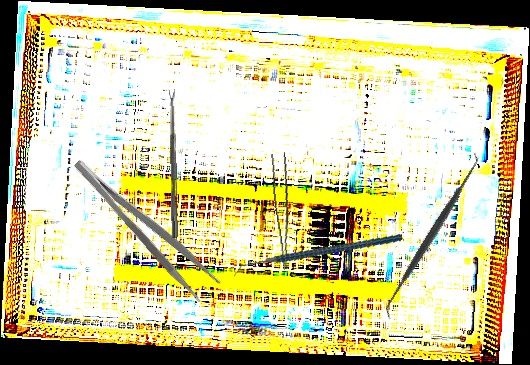Chopper: (233, 208, 403, 304)
Dressing Forceps: (70, 145, 222, 305)
Spatula Surgical: (373, 151, 490, 321)
Surgical Spoon: (169, 89, 179, 238)
Tissue Forceps: (268, 152, 301, 270)
